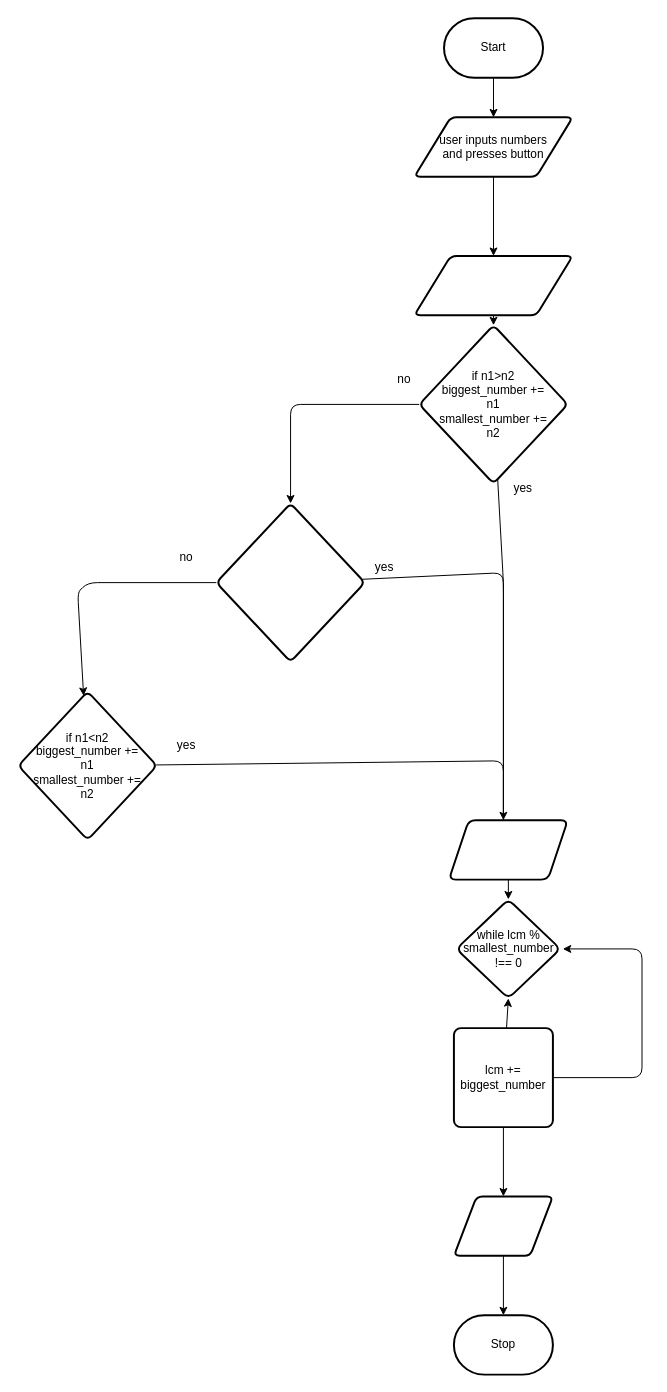
Image size: 667x1392. Some labels were removed from this diagram. The shapes that lost their labels are listed below. From the top down, each one's centre as x and y in pixels, then its label:
At pixel 493 285: "lcm = 0 biggest number = 0 smallest number = 0".
At pixel 290 582: "if n1<n2 biggest_number += n2 smallest_number += n1".
At pixel 507 849: "lcm += biggest number".
At pixel 502 1225: "Output lcm".
